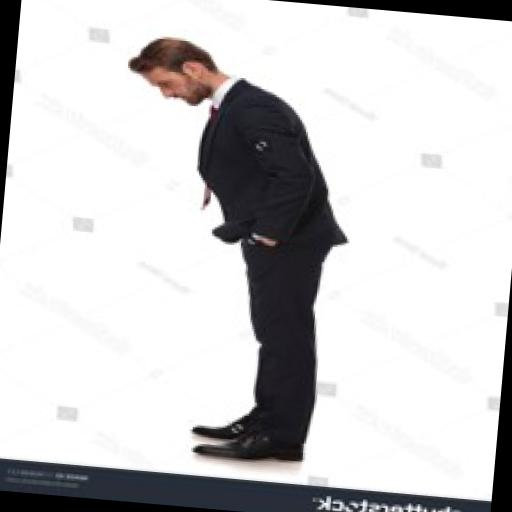human: (76, 25, 401, 476)
